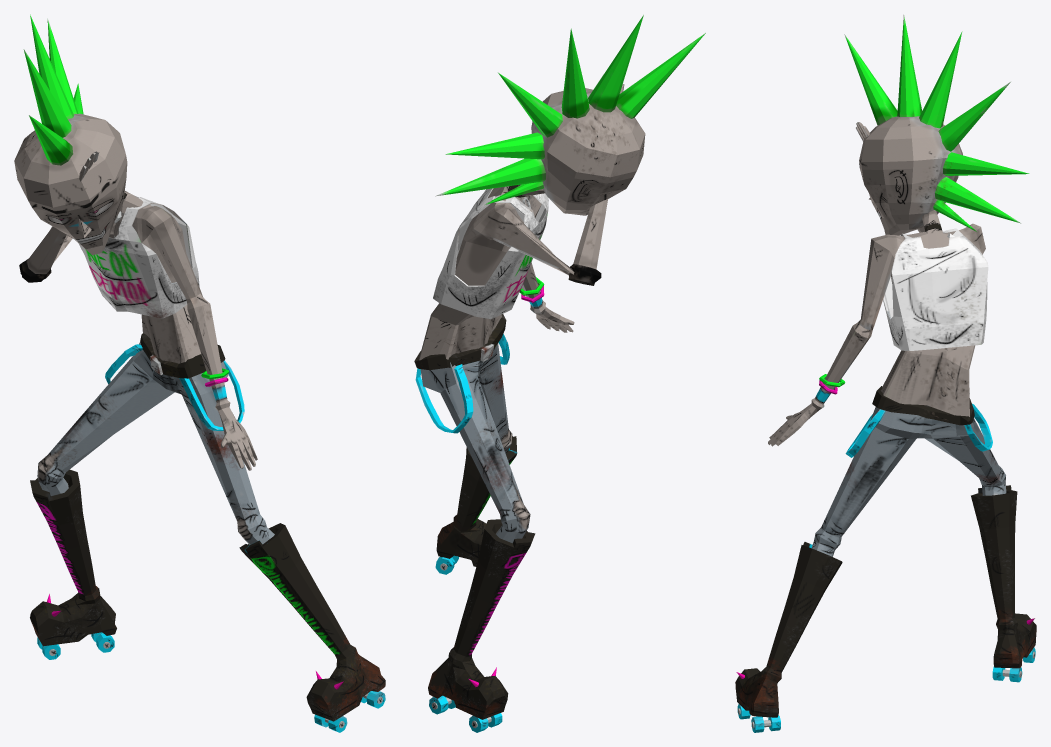
The model's file is punkAnimation_000002.obj.
The picture shows the model from 3 angles, left to right: view 1: azimuth 30°, elevation 25°; view 2: azimuth 150°, elevation 25°; view 3: azimuth 270°, elevation 25°; orthographic projection. The views are drawn at different scales.
Visible parts, largest first — view 1: Cube.004_Cube.003; view 2: Cube.004_Cube.003; view 3: Cube.004_Cube.003.
Boxes of the visible parts, left/top/right/bottom form: Cube.004_Cube.003: left=14, top=14, right=385, bottom=732; Cube.004_Cube.003: left=414, top=15, right=705, bottom=732; Cube.004_Cube.003: left=735, top=15, right=1036, bottom=732.
Size of the model in its own units: 3.2 by 6.7 by 3.01.
